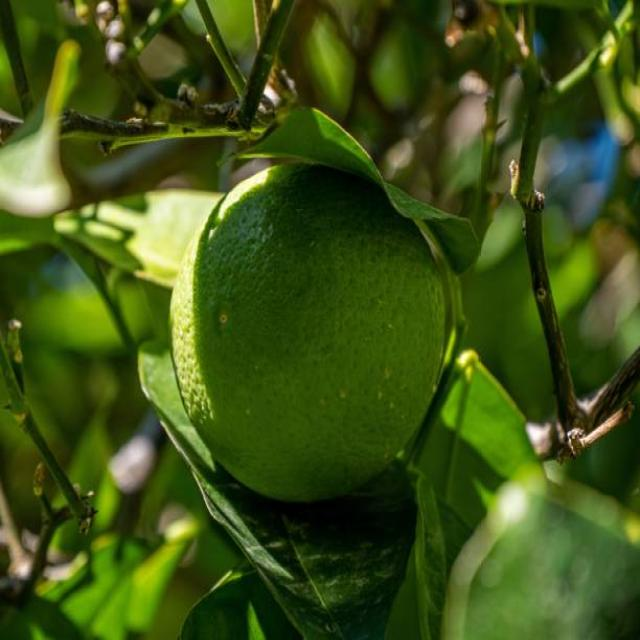Unripe: (168, 154, 447, 506)
